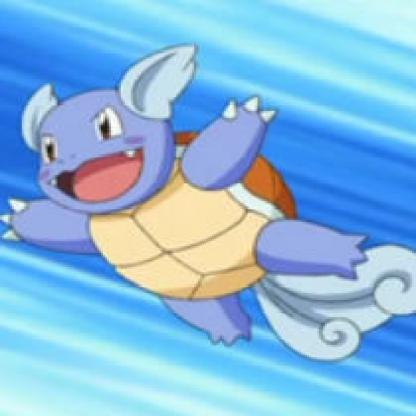Wartortle: (1, 38, 415, 376)
